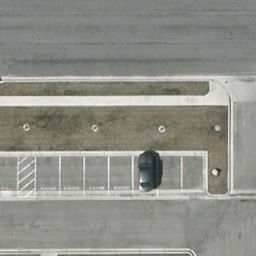car: (138, 152, 157, 193)
